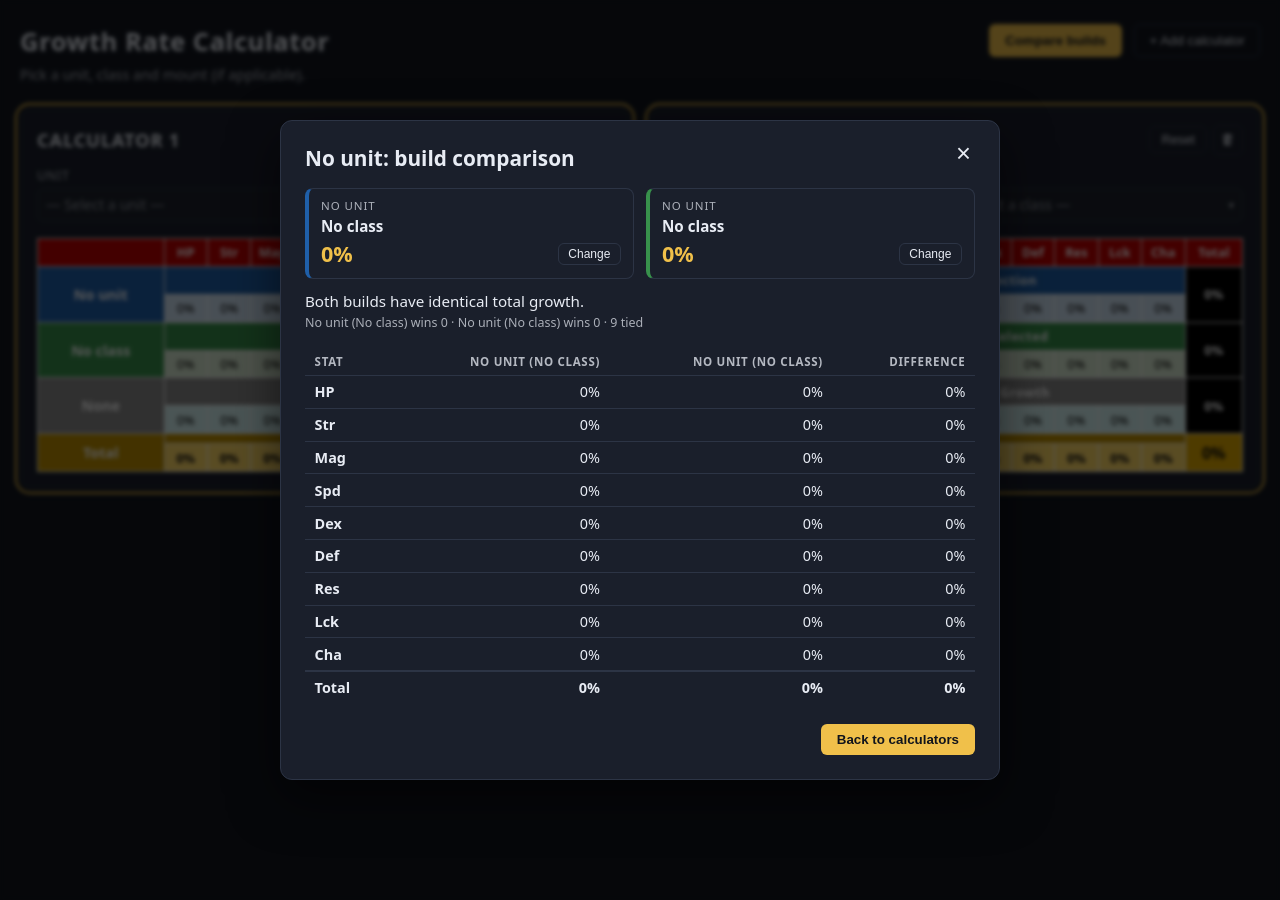
CalculatorPageComponent comparison › swaps the unit and build lines for one row of unit and class dropdowns in that box only
Expected: the 1st text with class "summary__label" is shown, [321,198,376,213]
Click the 1st button with class "summary__change".
click(589, 254)  # box [558,243,621,265]
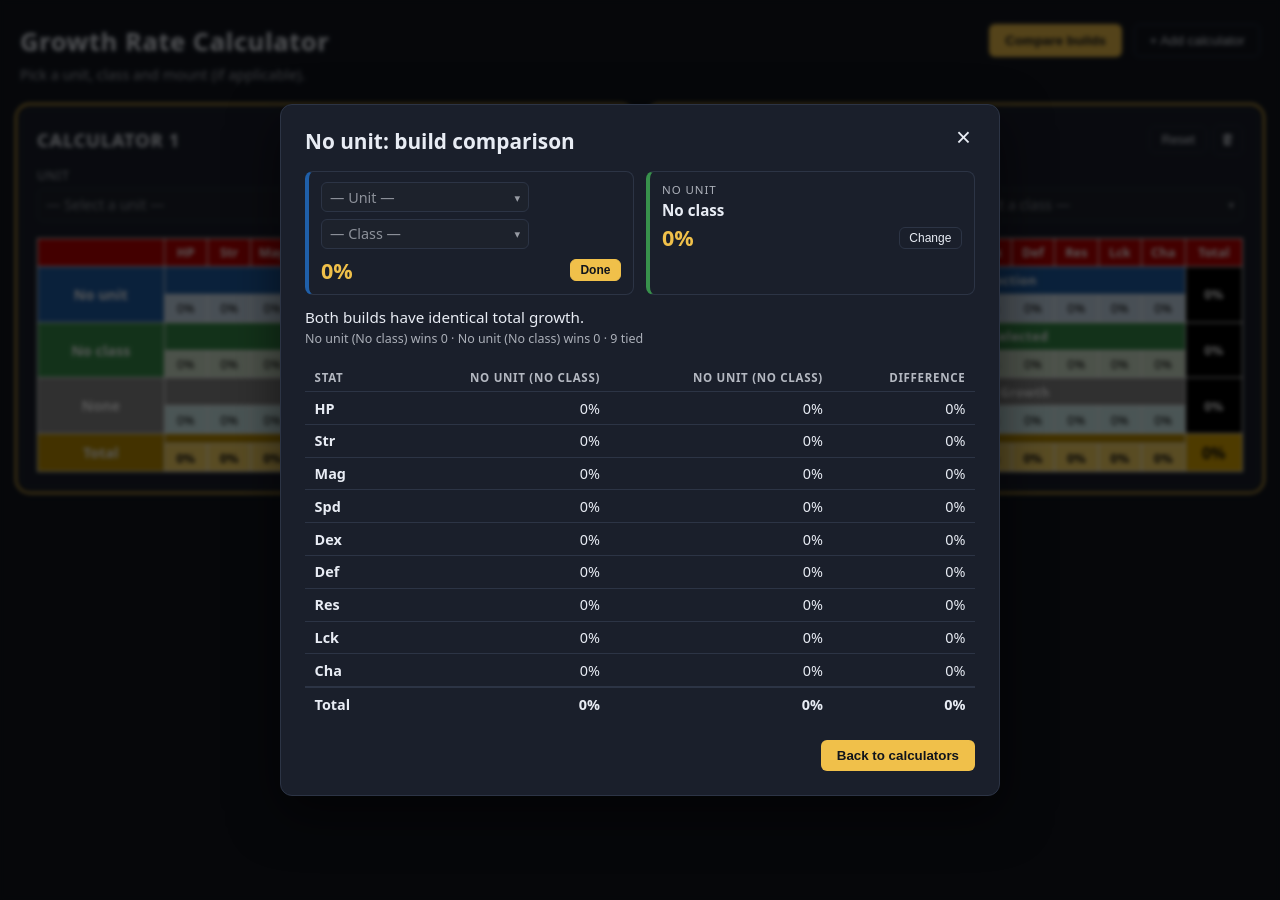
Expected: the number of elements with class "summary__row" is 1, [321,182,529,249]
Expected: the button with class "summary__change" reads "Done", [570,259,621,281]
